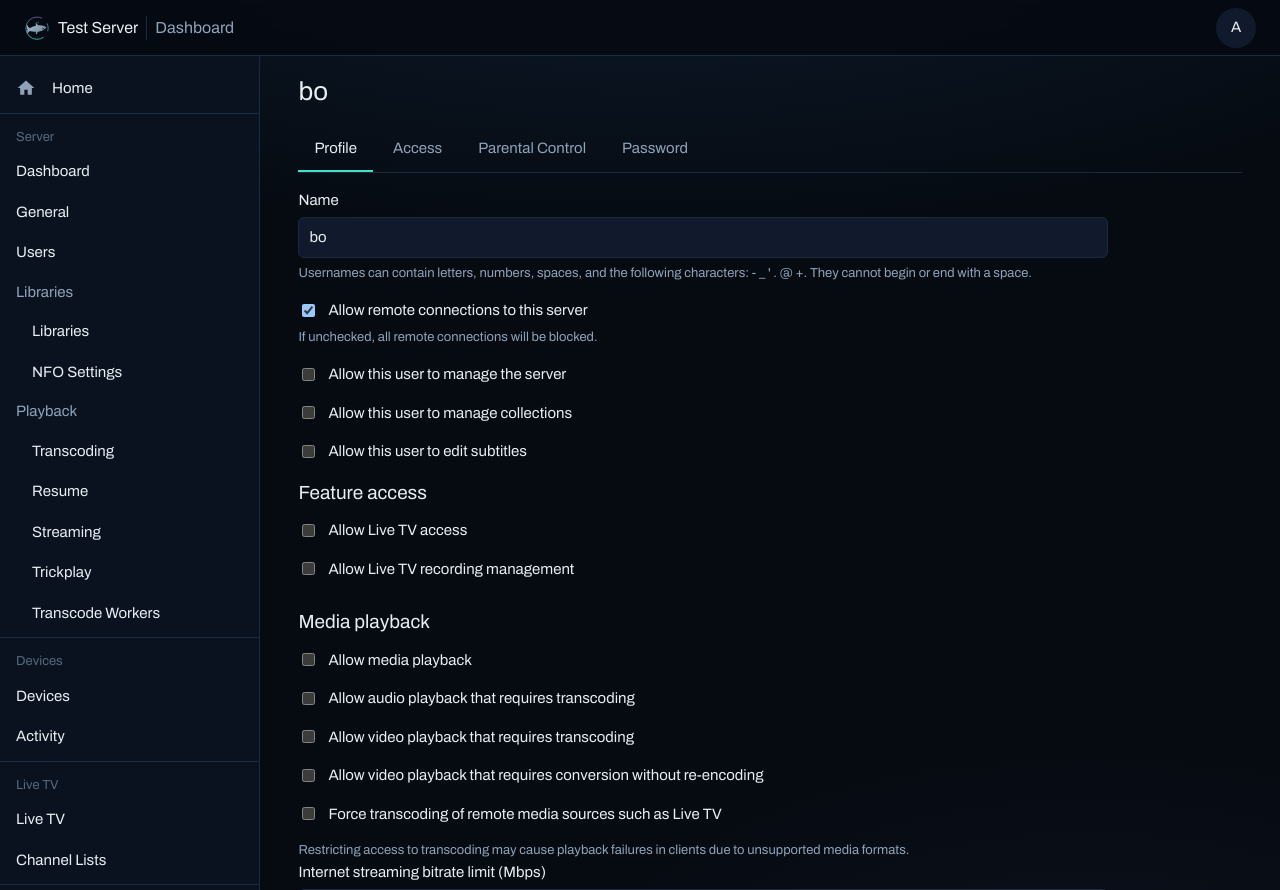
user editor channel lists › hides the limit when Live TV access is off
This screenshot has width=1280, height=890.
Expected: the field labelled "Show only the channels in the checked lists" is not shown
Click the checkbox labelled "Allow Live TV access" at (309, 530), box [302,524,315,537]
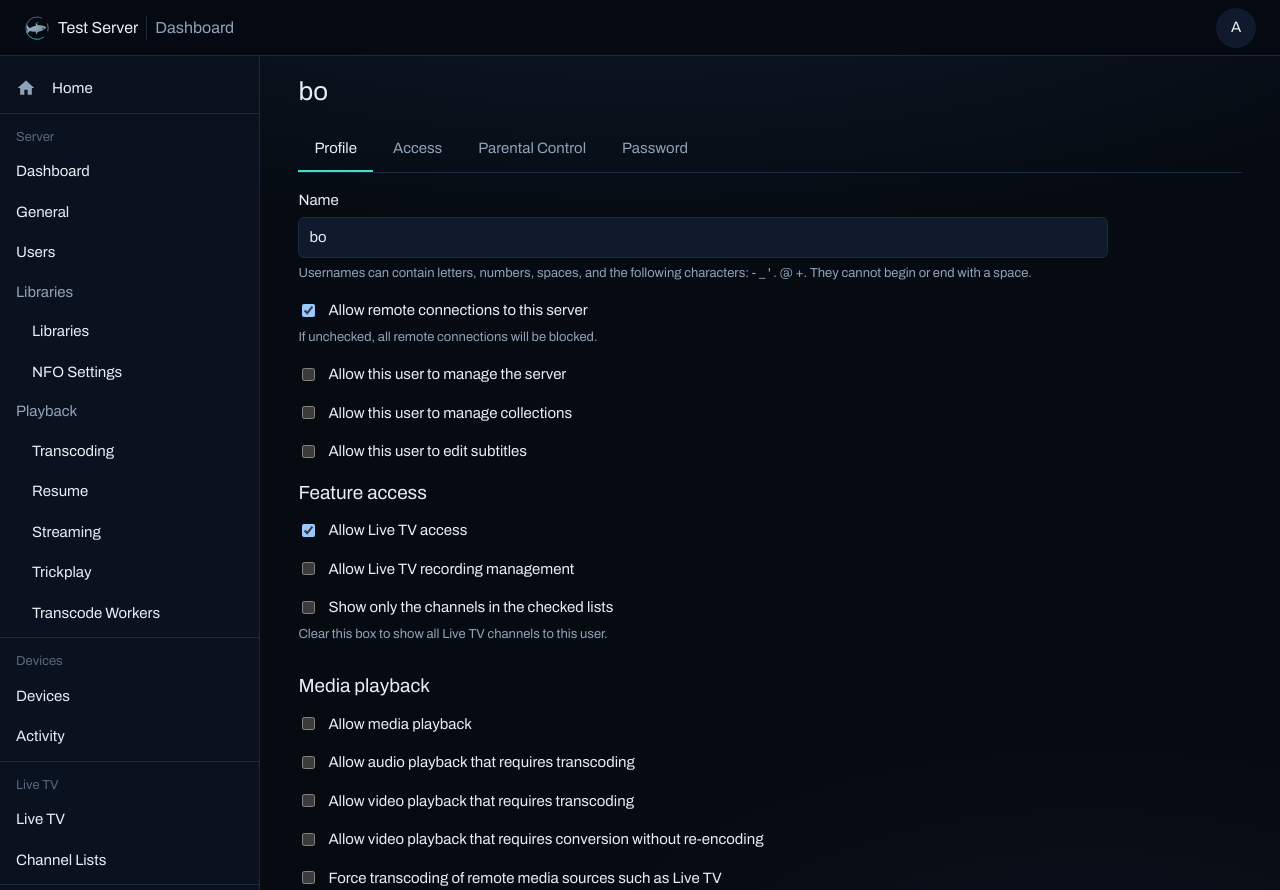
Expected: the checkbox labelled "Show only the channels in the checked lists" is not checked, [302,601,315,614]
